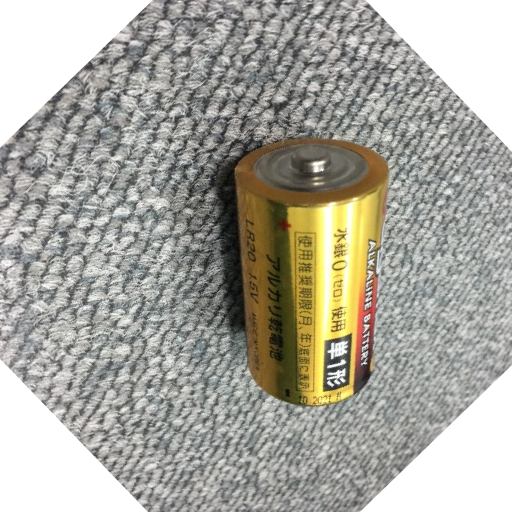Battery_0: (228, 128, 399, 409)
